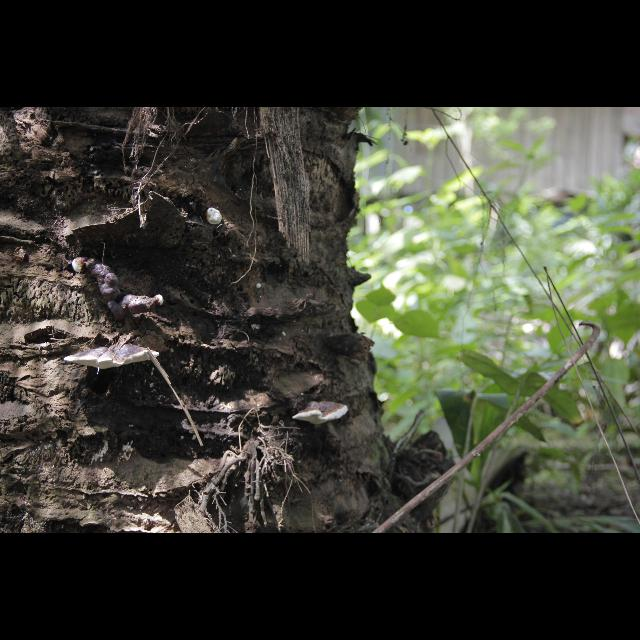ganoderma: (89, 260, 155, 321), (64, 343, 160, 371), (293, 401, 350, 427)
primordium: (207, 208, 224, 226), (73, 258, 89, 274), (156, 295, 165, 307), (258, 284, 263, 290)
